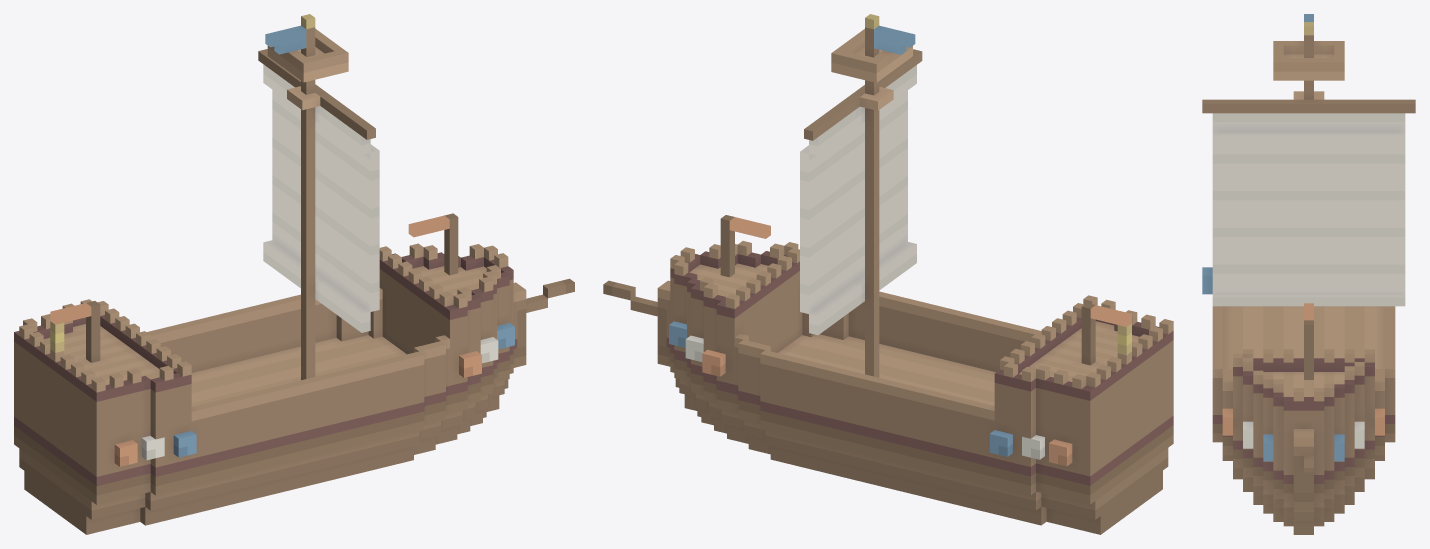
File: war_cog.glb
3 views of the same model, side by side, from view 1: azimuth 30°, elevation 25°; view 2: azimuth 150°, elevation 25°; view 3: azimuth 270°, elevation 25° (orthographic). The views are drawn at different scales.
Parts seen in each view (by area): view 1: war_cog; view 2: war_cog; view 3: war_cog.
Part boxes in pixels (<box>): war_cog: <box>14,14,574,534</box>; war_cog: <box>603,14,1173,534</box>; war_cog: <box>1202,14,1415,534</box>.
Bounding box in the file's own units: 2.9 × 2.3 × 1.05.
